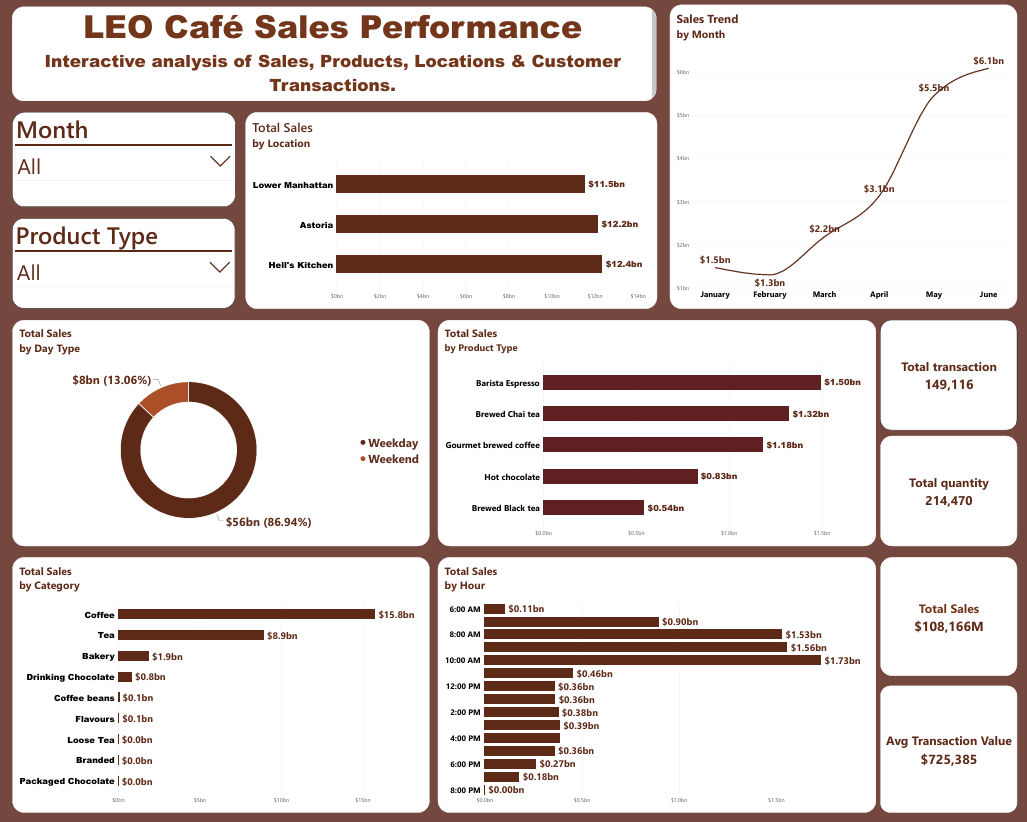

What the dashboard file says about the page in this screenshot:
{"tool":"powerbi","page":{"name":"Page 1","canvas":[2600,2100],"ordinal":0},"visuals":[{"type":"textbox","box":[33.5,23.5,1625.3,237.9],"z":0},{"type":"cardVisual","fields":{"Data":["Transactions.Total Sales"]},"box":[2223.9,1411,344.8,299.1],"z":1000},{"type":"cardVisual","fields":{"Data":["LEO Cafe.total quantity"]},"box":[2223.9,1104.9,344.8,278],"z":2000},{"type":"cardVisual","fields":{"Data":["LEO Cafe.Average Transaction Value"]},"box":[2223.9,1734.8,344.8,320.2],"z":3000},{"type":"cardVisual","fields":{"Data":["LEO Cafe.Total transaction"]},"box":[2223.9,812.8,344.8,278],"z":4000},{"type":"slicer","fields":{"Values":["Calendar.Month"]},"box":[35.2,288.5,563,239.3],"z":5000},{"type":"slicer","fields":{"Values":["LEO Cafe.Product Type"]},"box":[33.5,556.3,563,227.9],"z":6000},{"type":"lineChart","title":"Sales Trend","fields":{"Category":["Calendar.Month"],"Y":["LEO Cafe.Total Sales"]},"box":[1692.5,17.6,876.2,767.1],"z":7000},{"type":"clusteredBarChart","fields":{"Category":["LEO Cafe.Location"],"Y":["LEO Cafe.Total Sales"]},"box":[622.8,288.5,1038,496.1],"z":8000},{"type":"clusteredBarChart","fields":{"Category":["LEO Cafe.Product Type"],"Y":["LEO Cafe.Total Sales"]},"box":[1108.4,812.8,1104.9,570],"z":9000},{"type":"clusteredBarChart","fields":{"Category":["LEO Cafe.Category"],"Y":["LEO Cafe.Total Sales"]},"box":[35.2,1411,1052.1,643.9],"z":10000},{"type":"donutChart","fields":{"Category":["Calendar.Day Type"],"Y":["LEO Cafe.Total Sales"]},"box":[35.2,812.8,1052.1,570],"z":11000},{"type":"barChart","title":"Total Sales ","fields":{"Category":["LEO Cafe.Hour Display"],"Y":["LEO Cafe.Total Sales"]},"box":[1108.4,1411,1104.9,643.9],"z":12000}]}

Visuals, with their boxes in screenshot pixels (x1, y1, x2, y2), scaled from the page's 2600x2100 canvas onto the 1027x822 screenshot:
textbox: bbox=[13, 9, 655, 102]
cardVisual - Transactions.Total Sales: bbox=[878, 552, 1015, 669]
cardVisual - LEO Cafe.total quantity: bbox=[878, 432, 1015, 541]
cardVisual - LEO Cafe.Average Transaction Value: bbox=[878, 679, 1015, 804]
cardVisual - LEO Cafe.Total transaction: bbox=[878, 318, 1015, 427]
slicer - Calendar.Month: bbox=[14, 113, 236, 207]
slicer - LEO Cafe.Product Type: bbox=[13, 218, 236, 307]
"Sales Trend" lineChart: bbox=[669, 7, 1015, 307]
clusteredBarChart - LEO Cafe.Location x LEO Cafe.Total Sales: bbox=[246, 113, 656, 307]
clusteredBarChart - LEO Cafe.Product Type x LEO Cafe.Total Sales: bbox=[438, 318, 874, 541]
clusteredBarChart - LEO Cafe.Category x LEO Cafe.Total Sales: bbox=[14, 552, 429, 804]
donutChart - Calendar.Day Type x LEO Cafe.Total Sales: bbox=[14, 318, 429, 541]
"Total Sales " barChart: bbox=[438, 552, 874, 804]
